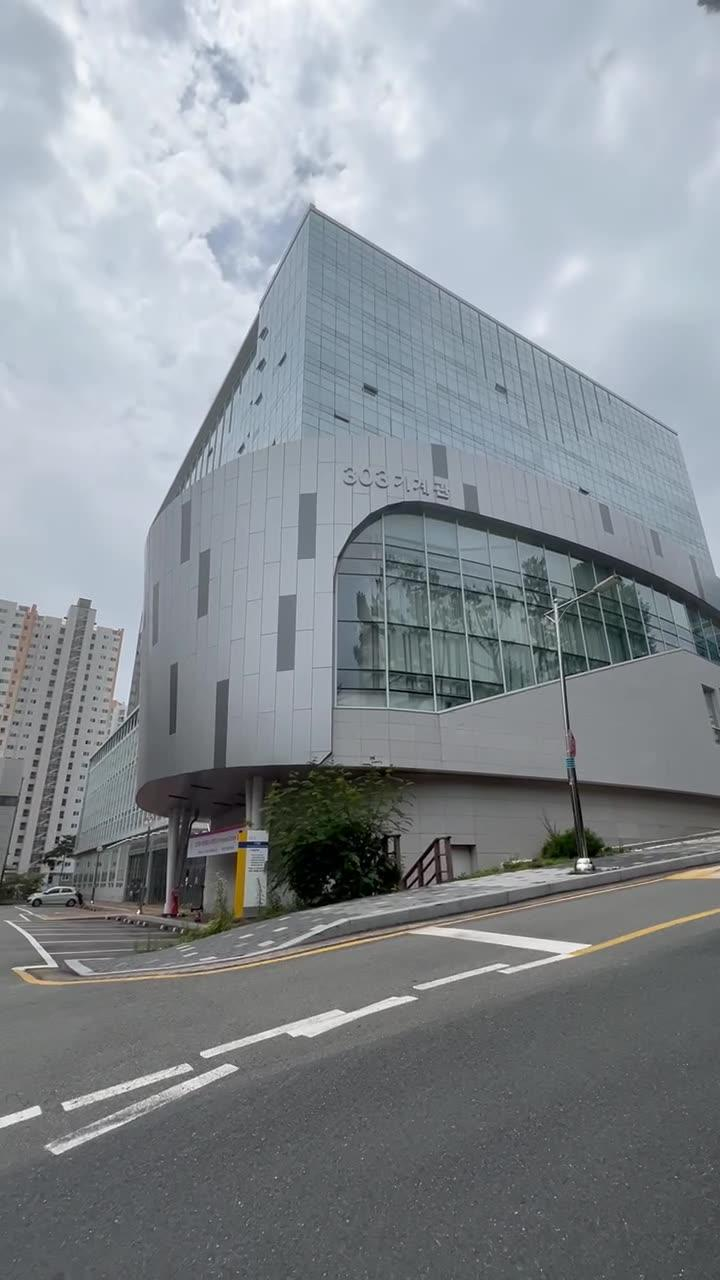building: (130, 302, 720, 800)
